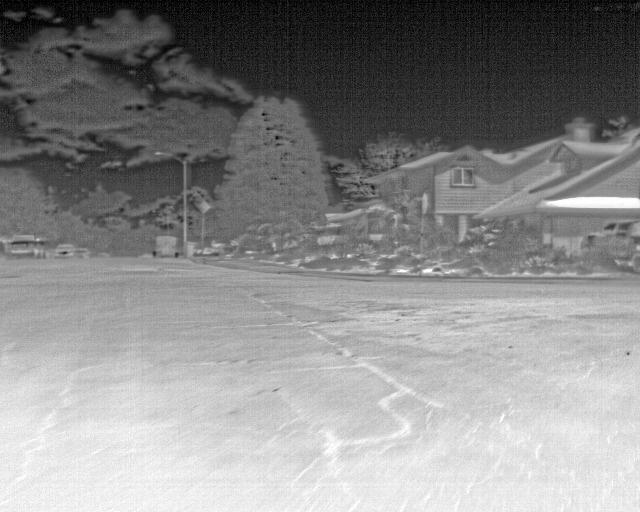car: (582, 217, 639, 274), (6, 237, 44, 260), (152, 234, 178, 260), (51, 242, 79, 257)
